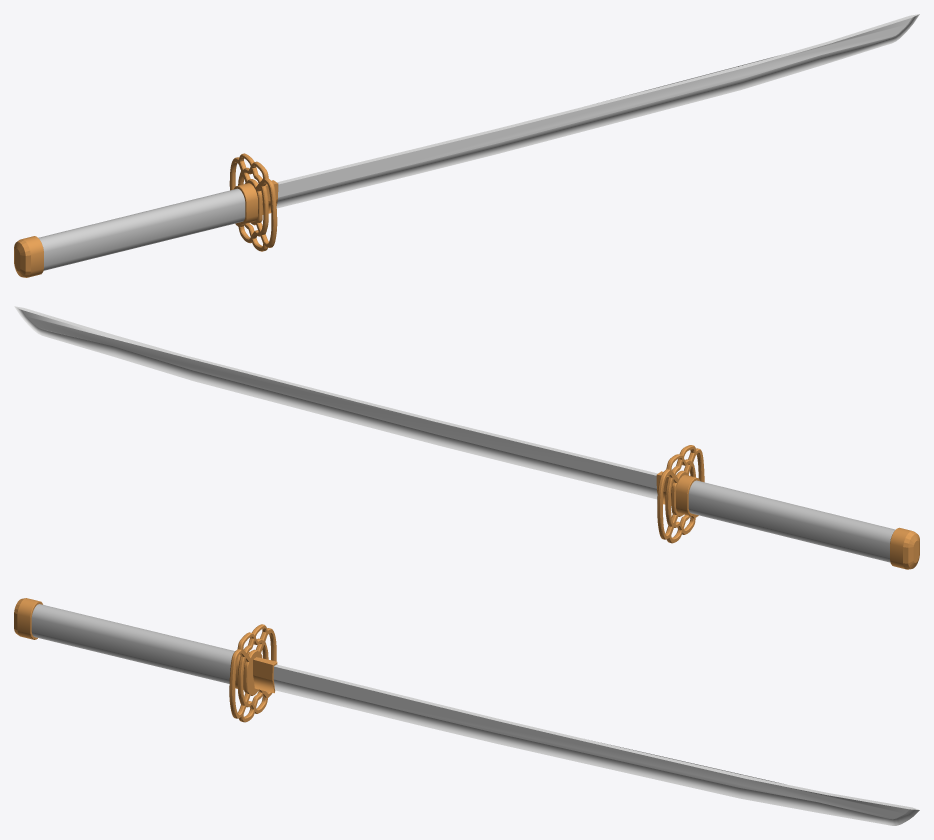
The model's file is Katana.obj.
3 views of the same model, one above another, from view 1: azimuth 30°, elevation 25°; view 2: azimuth 150°, elevation 25°; view 3: azimuth 330°, elevation 25° (orthographic).
Parts seen in each view (by area): view 1: tsuba.002_tsuba.004; view 2: tsuba.002_tsuba.004; view 3: tsuba.002_tsuba.004.
Part boxes in pixels (<box>): tsuba.002_tsuba.004: <box>14,14,919,277</box>; tsuba.002_tsuba.004: <box>14,306,919,569</box>; tsuba.002_tsuba.004: <box>14,598,919,825</box>.
Size of the model in its own units: 21.26 by 1.94 by 1.8.
